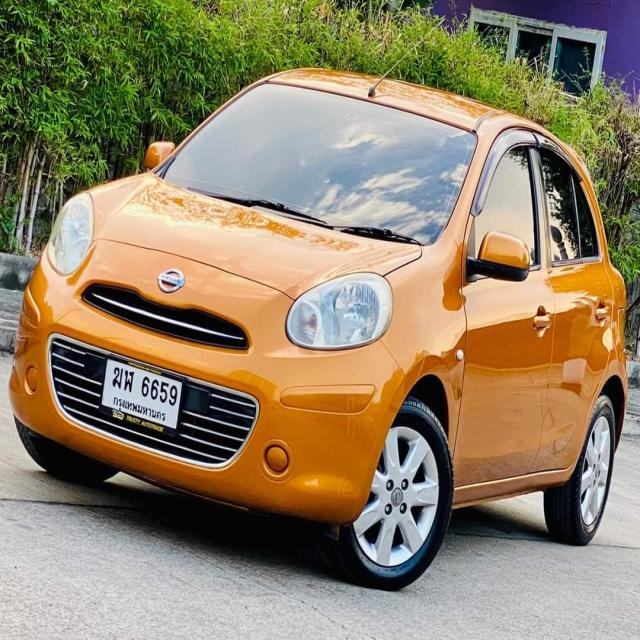license_plate: (96, 349, 187, 444)
